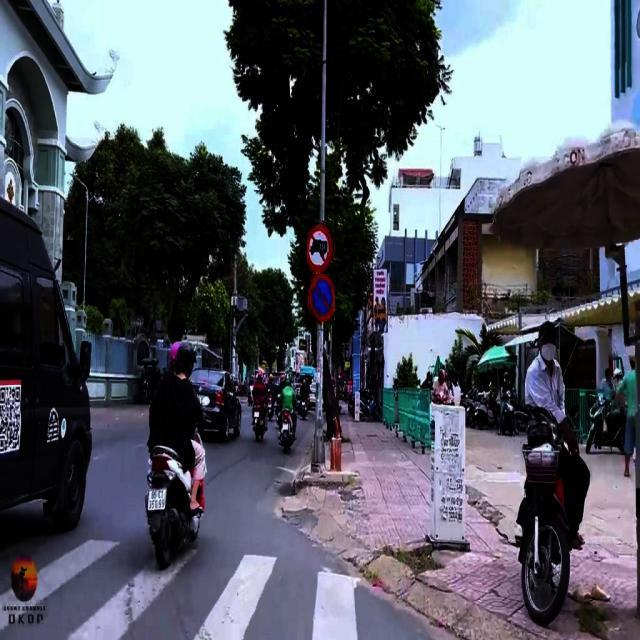106-cam-oto-tai: (308, 220, 336, 276)
131a-cam-do-xe: (308, 274, 336, 320)
